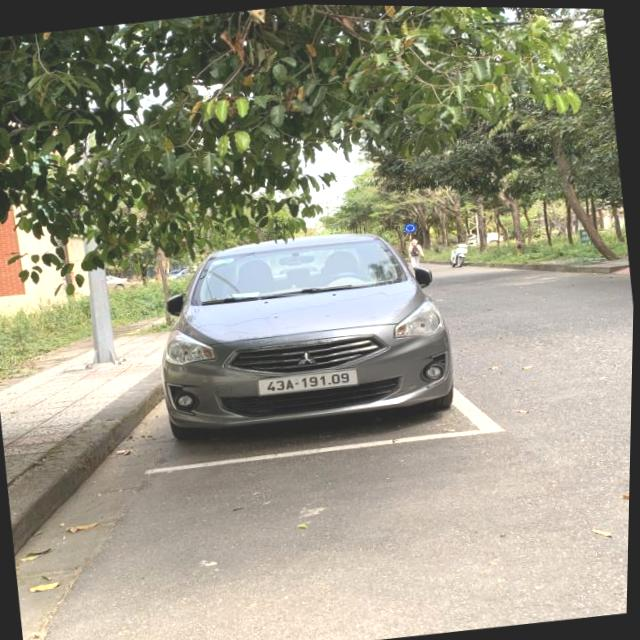car: (145, 212, 470, 449)
plate: (252, 360, 362, 402)
